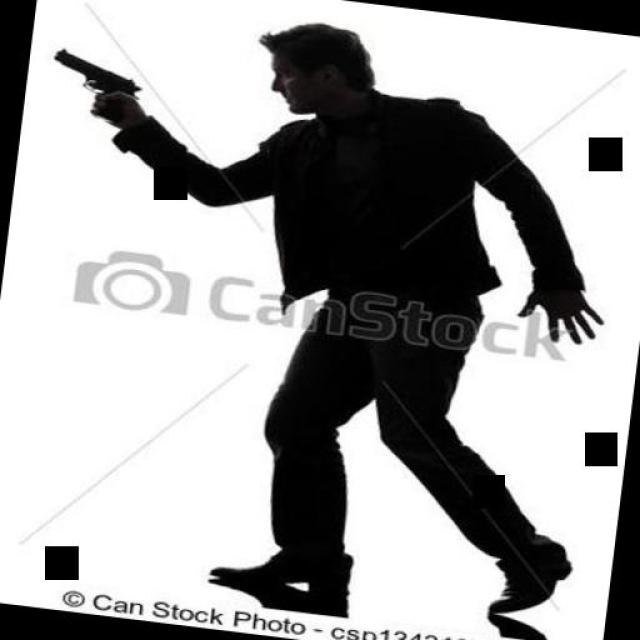gun: (50, 46, 150, 108)
